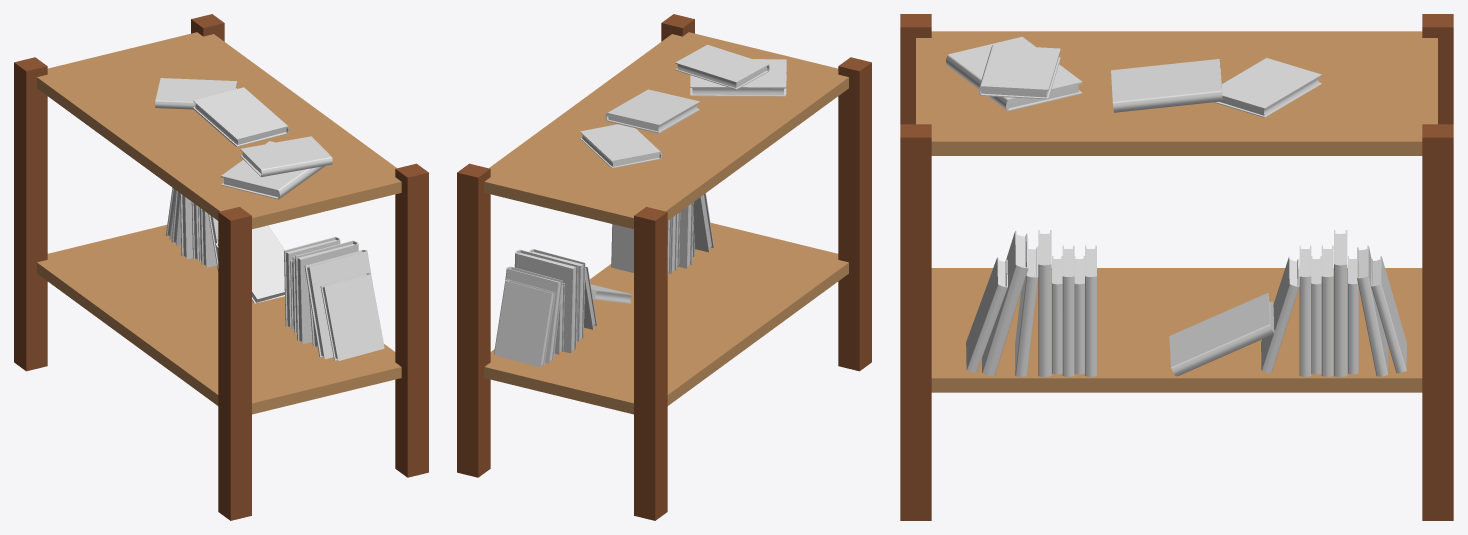
The model's file is Estante_livros.fbx.
The picture shows the model from 3 angles, left to right: view 1: azimuth 30°, elevation 25°; view 2: azimuth 150°, elevation 25°; view 3: azimuth 270°, elevation 25°; orthographic projection. The views are drawn at different scales.
Parts seen in each view (by area): view 1: Estante_livros; view 2: Estante_livros; view 3: Estante_livros.
Part boxes in pixels (box(x1,y1,x2,y2)): Estante_livros: box(14, 14, 428, 520); Estante_livros: box(457, 14, 871, 520); Estante_livros: box(900, 14, 1453, 520).
Size of the model in its own units: 112 by 167 by 212.
